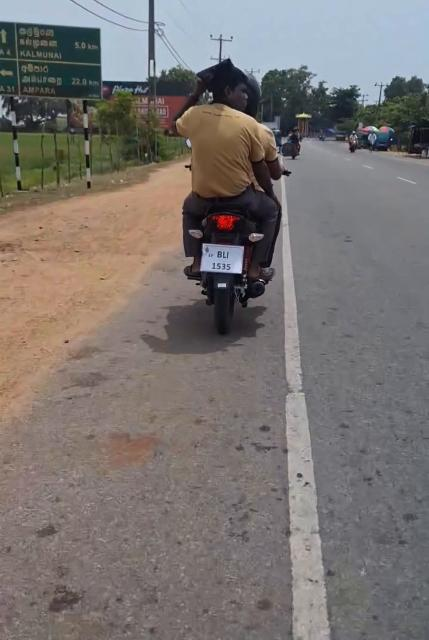no helmet: (210, 55, 252, 111)
number plate: (196, 239, 245, 283)
